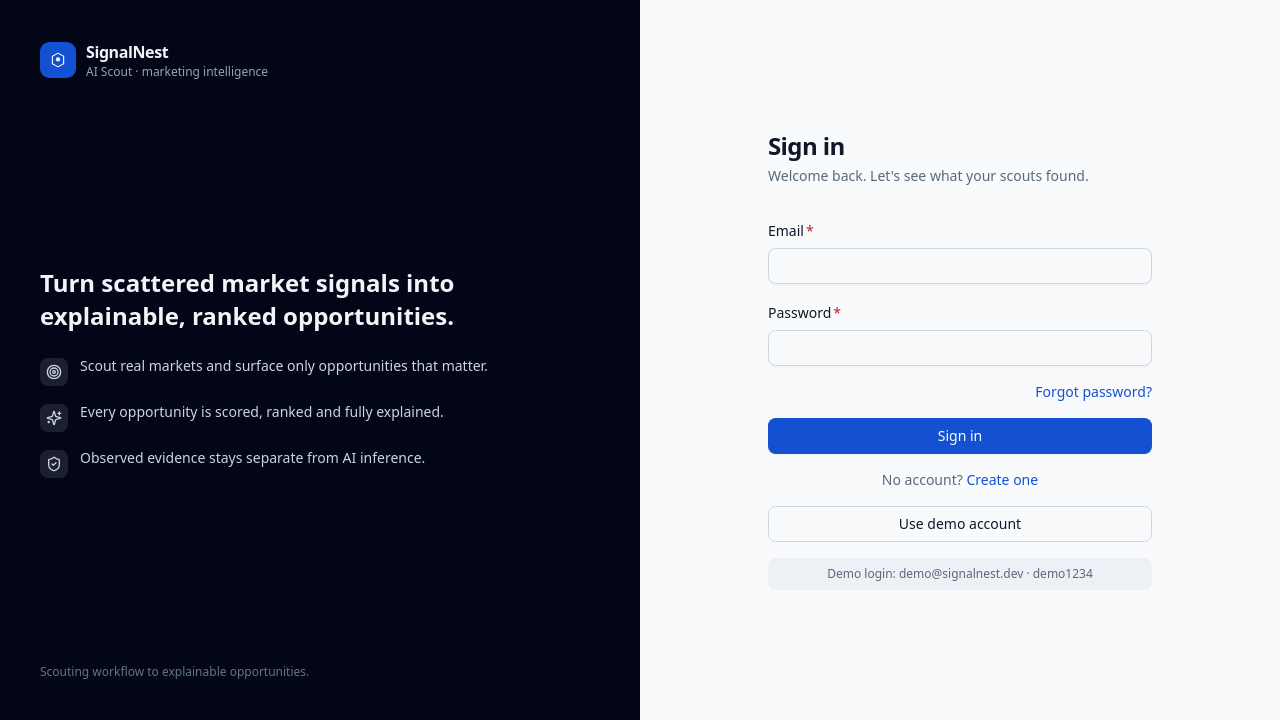
Test: a refused session ends only the tab that used it (P6-AUTH-4 follow-up) › ignores a 401 for a request sent with no session (a wrong password on sign-in)
In the field labelled "Email*": point(960, 266) [768,248,1152,284], type "ann@example.com"
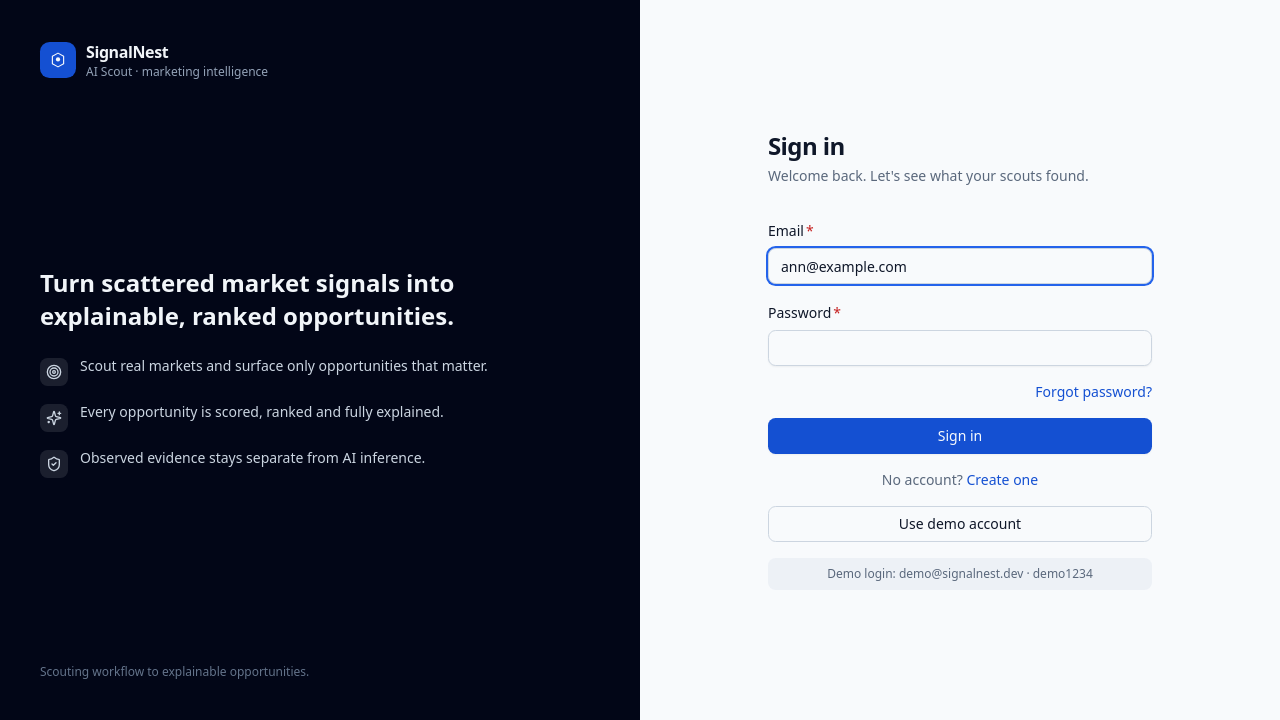
In the password field labelled "Password*": point(960, 348) [768,330,1152,366], type "not the password"
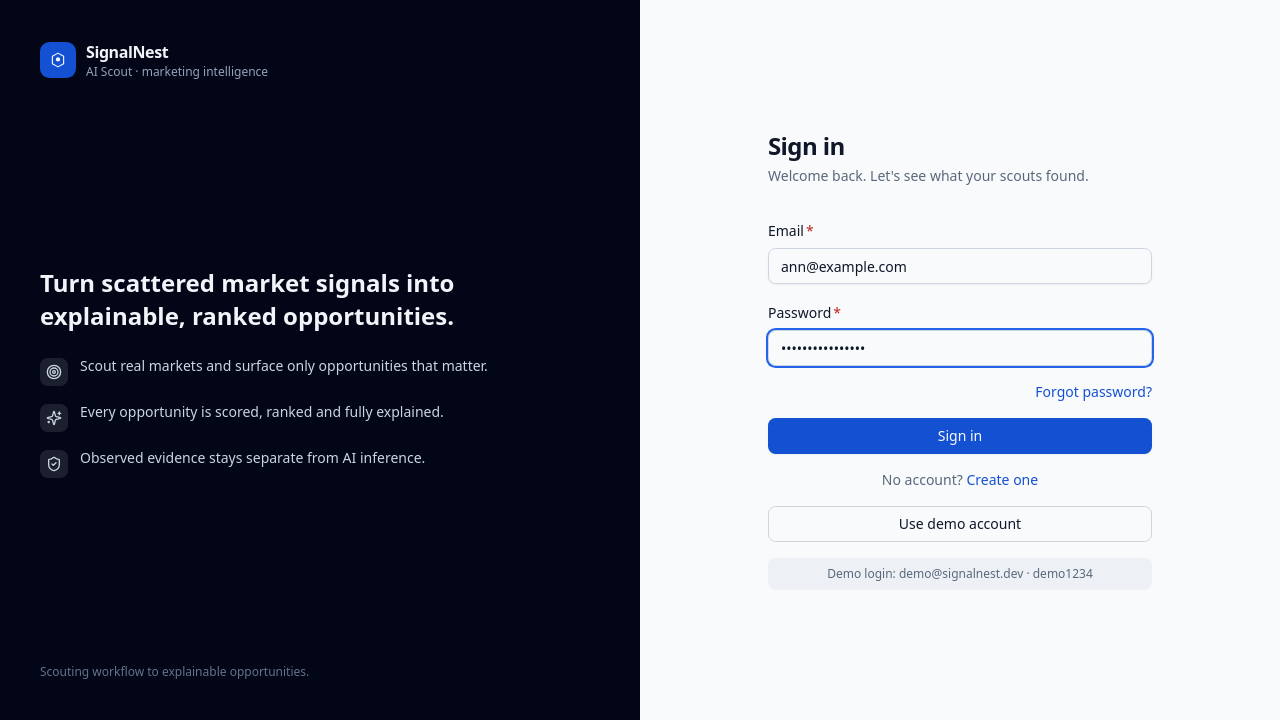
Click the button "Sign in": point(960, 436) [768,418,1152,454]
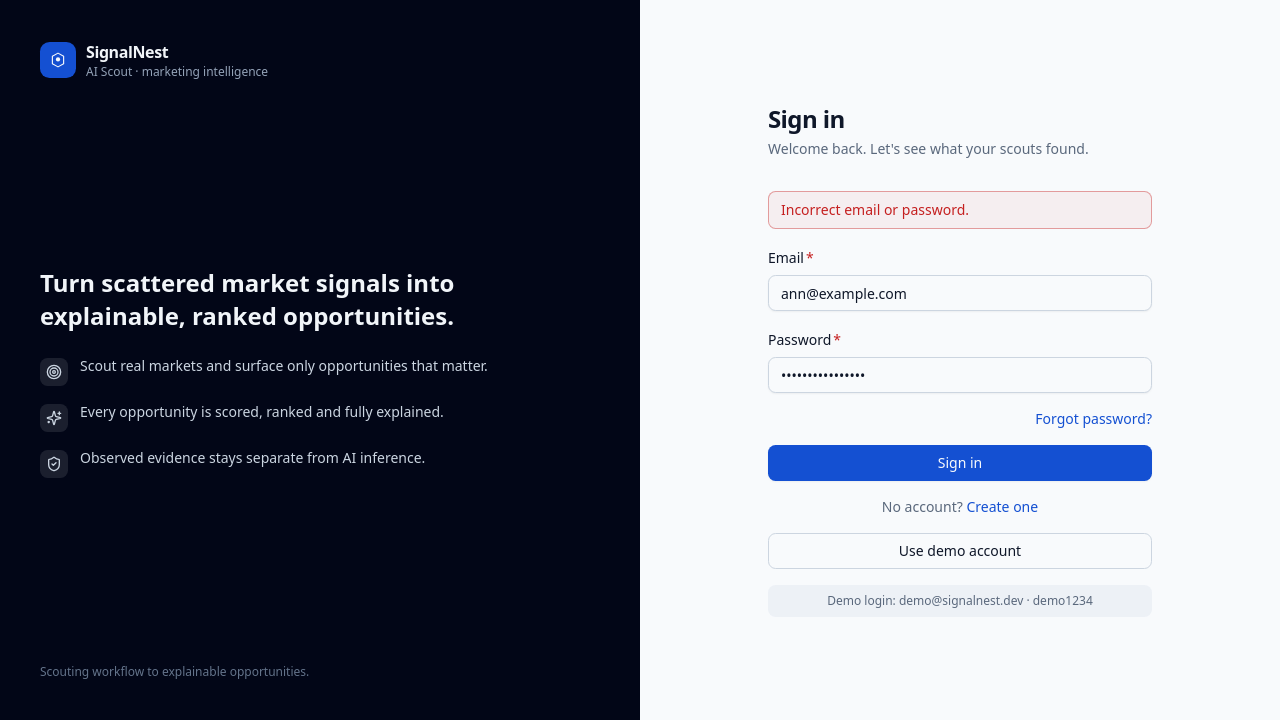
Expected: the text "Incorrect email or password." is shown, [768,191,1152,229]
